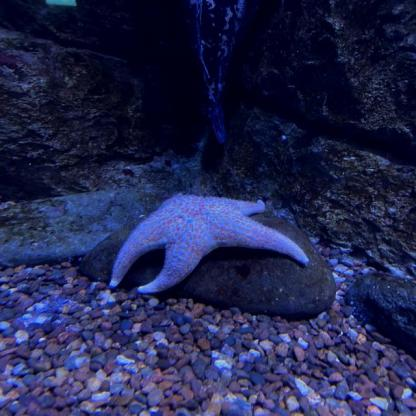starfish: (110, 194, 308, 294)
